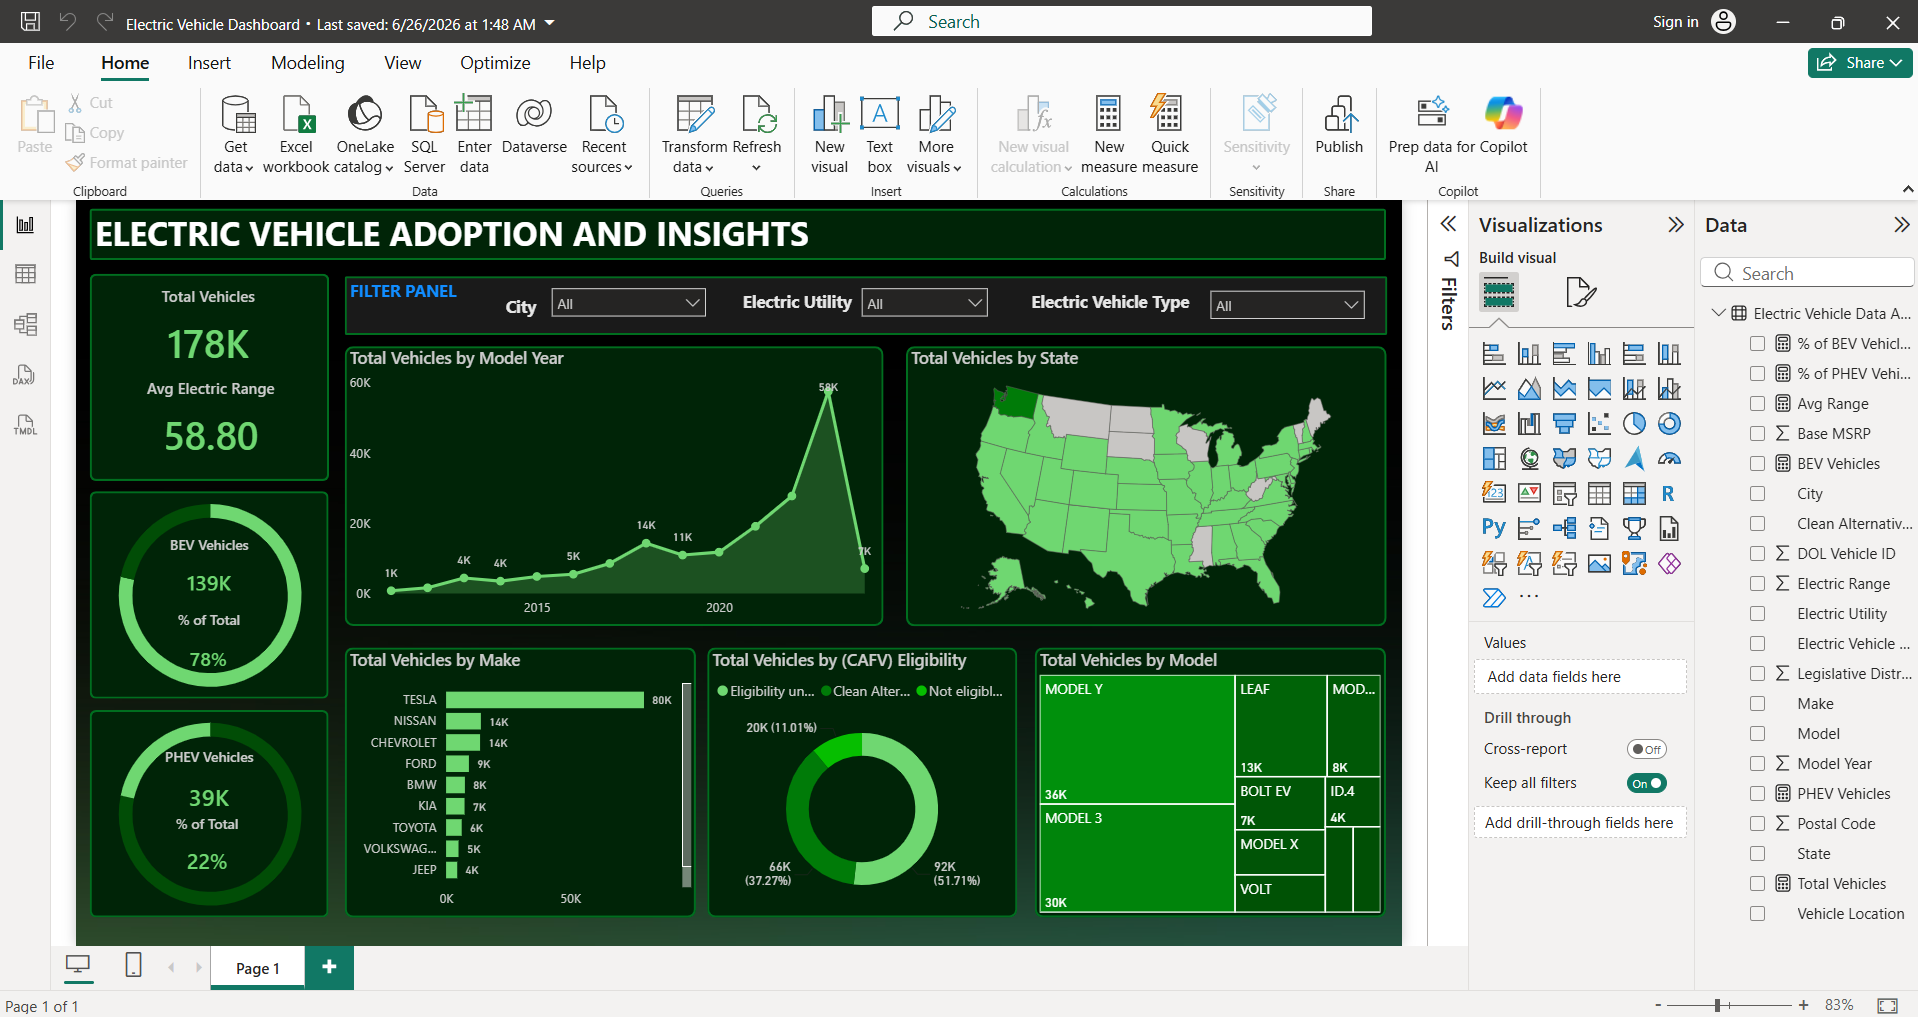

The page's visual inventory and layout, read from the dashboard file:
{"tool":"powerbi","page":{"name":"Page 1","canvas":[1280,720],"ordinal":0},"visuals":[{"type":"shape","box":[13.3,8.4,1251.1,49.5],"z":0},{"type":"textbox","box":[13.3,4.8,734.7,56.7],"z":1000},{"type":"shape","box":[13.3,71.2,231,200],"z":2000},{"type":"cardVisual","title":"Total Vehicles","fields":{"Data":["Electric Vehicle Data Analysis.Total Vehicles"]},"box":[24.7,82.3,207.2,89.2],"z":3000},{"type":"cardVisual","title":"Avg Electric Range","fields":{"Data":["Avg(Electric Vehicle Data Analysis.Electric Range)"]},"box":[26.1,171.5,207.2,89.2],"z":4000},{"type":"shape","box":[13.7,281.3,230.5,200.3],"z":5000},{"type":"shape","box":[13.7,492.6,230.5,200.3],"z":6000},{"type":"donutChart","fields":{"Category":["Electric Vehicle Data Analysis.Electric Vehicle Type"],"Y":["Electric Vehicle Data Analysis.Total Vehicles"]},"box":[0,266.2,259.3,230.5],"z":7000},{"type":"cardVisual","title":"BEV Vehicles","fields":{"Data":["Electric Vehicle Data Analysis.BEV Vehicles"]},"box":[72.7,323.8,112.5,71.4],"z":8000},{"type":"cardVisual","title":"% of Total","fields":{"Data":["Electric Vehicle Data Analysis.% of BEV Vehicles"]},"box":[64.5,395.2,129,74.1],"z":9000},{"type":"donutChart","fields":{"Category":["Electric Vehicle Data Analysis.Electric Vehicle Type"],"Y":["Electric Vehicle Data Analysis.Total Vehicles"]},"box":[0,477.5,259.3,230.5],"z":10000},{"type":"cardVisual","title":"PHEV Vehicles","fields":{"Data":["Electric Vehicle Data Analysis.PHEV Vehicles"]},"box":[72.7,528.3,112.5,74.1],"z":11000},{"type":"cardVisual","title":"% of Total","fields":{"Data":["Electric Vehicle Data Analysis.% of PHEV Vehicles"]},"box":[67.2,592.8,118,71.4],"z":12000},{"type":"shape","box":[259.4,73.6,1006.2,56.7],"z":13000},{"type":"shape","box":[259.3,141.3,520,270],"z":14000},{"type":"areaChart","fields":{"Category":["Electric Vehicle Data Analysis.Model Year"],"Y":["Electric Vehicle Data Analysis.Total Vehicles"]},"box":[259.3,141.3,520.1,270.3],"z":15000},{"type":"shape","box":[801.4,141.3,463.8,270.3],"z":16000},{"type":"shapeMap","fields":{"Category":["Electric Vehicle Data Analysis.State"],"Value":["Electric Vehicle Data Analysis.Total Vehicles"]},"box":[801.4,141.3,463.8,270.3],"z":17000},{"type":"shape","box":[259.3,432.2,338.9,260.7],"z":18000},{"type":"barChart","fields":{"Category":["Electric Vehicle Data Analysis.Make"],"Y":["Electric Vehicle Data Analysis.Total Vehicles"]},"box":[259.4,431.9,339,260.6],"z":19000},{"type":"shape","box":[609.3,431.9,299.2,260.6],"z":20000},{"type":"donutChart","title":"Total Vehicles by (CAFV) Eligibility","fields":{"Category":["Electric Vehicle Data Analysis.Clean Alternative Fuel Vehicle (CAFV) Eligibility"],"Y":["Electric Vehicle Data Analysis.Total Vehicles"]},"box":[609.3,431.9,299.2,260.6],"z":21000},{"type":"shape","box":[925.3,431.9,339,260.6],"z":22000},{"type":"treemap","fields":{"Group":["Electric Vehicle Data Analysis.Model"],"Values":["Electric Vehicle Data Analysis.Total Vehicles"]},"box":[924.9,432.2,338.9,260.7],"z":23000},{"type":"textbox","box":[259.4,71.2,121.9,41],"z":24000},{"type":"slicer","fields":{"Values":["Electric Vehicle Data Analysis.City"]},"box":[448.8,74.8,168.9,47.1],"z":24001},{"type":"textbox","box":[395.7,86.9,67.6,39.8],"z":24002},{"type":"slicer","fields":{"Values":["Electric Vehicle Data Analysis.Electric Utility"]},"box":[748,74.8,142.4,47.1],"z":24003},{"type":"textbox","box":[629.8,82,132.7,50.7],"z":24004},{"type":"slicer","fields":{"Values":["Electric Vehicle Data Analysis.Electric Vehicle Type"]},"box":[1085.2,77.1,168.9,47.1],"z":24005},{"type":"textbox","box":[912.1,82,172.5,39.8],"z":24006}]}

Visuals, with their boxes on the page's 1280x720 design canvas (x1, y1, x2, y2). These are canvas units, not pixel positions in the 1918x1017 screenshot, which may show the page scaled, cropped or inside an application window:
shape: bbox=[13, 8, 1264, 58]
textbox: bbox=[13, 5, 748, 62]
shape: bbox=[13, 71, 244, 271]
"Total Vehicles" cardVisual: bbox=[25, 82, 232, 172]
"Avg Electric Range" cardVisual: bbox=[26, 172, 233, 261]
shape: bbox=[14, 281, 244, 482]
shape: bbox=[14, 493, 244, 693]
donutChart - Electric Vehicle Data Analysis.Electric Vehicle Type x Electric Vehicle Data Analysis.Total Vehicles: bbox=[0, 266, 259, 497]
"BEV Vehicles" cardVisual: bbox=[73, 324, 185, 395]
"% of Total" cardVisual: bbox=[64, 395, 194, 469]
donutChart - Electric Vehicle Data Analysis.Electric Vehicle Type x Electric Vehicle Data Analysis.Total Vehicles: bbox=[0, 478, 259, 708]
"PHEV Vehicles" cardVisual: bbox=[73, 528, 185, 602]
"% of Total" cardVisual: bbox=[67, 593, 185, 664]
shape: bbox=[259, 74, 1266, 130]
shape: bbox=[259, 141, 779, 411]
areaChart - Electric Vehicle Data Analysis.Model Year x Electric Vehicle Data Analysis.Total Vehicles: bbox=[259, 141, 779, 412]
shape: bbox=[801, 141, 1265, 412]
shapeMap - Electric Vehicle Data Analysis.State x Electric Vehicle Data Analysis.Total Vehicles: bbox=[801, 141, 1265, 412]
shape: bbox=[259, 432, 598, 693]
barChart - Electric Vehicle Data Analysis.Make x Electric Vehicle Data Analysis.Total Vehicles: bbox=[259, 432, 598, 692]
shape: bbox=[609, 432, 908, 692]
"Total Vehicles by (CAFV) Eligibility" donutChart: bbox=[609, 432, 908, 692]
shape: bbox=[925, 432, 1264, 692]
treemap - Electric Vehicle Data Analysis.Model x Electric Vehicle Data Analysis.Total Vehicles: bbox=[925, 432, 1264, 693]
textbox: bbox=[259, 71, 381, 112]
slicer - Electric Vehicle Data Analysis.City: bbox=[449, 75, 618, 122]
textbox: bbox=[396, 87, 463, 127]
slicer - Electric Vehicle Data Analysis.Electric Utility: bbox=[748, 75, 890, 122]
textbox: bbox=[630, 82, 762, 133]
slicer - Electric Vehicle Data Analysis.Electric Vehicle Type: bbox=[1085, 77, 1254, 124]
textbox: bbox=[912, 82, 1085, 122]
